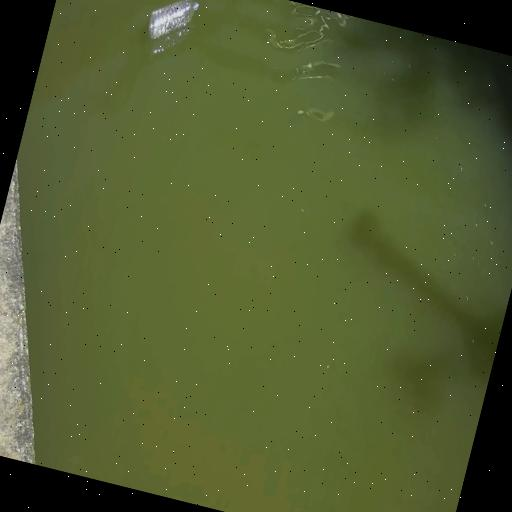plastic: (144, 0, 202, 50)
